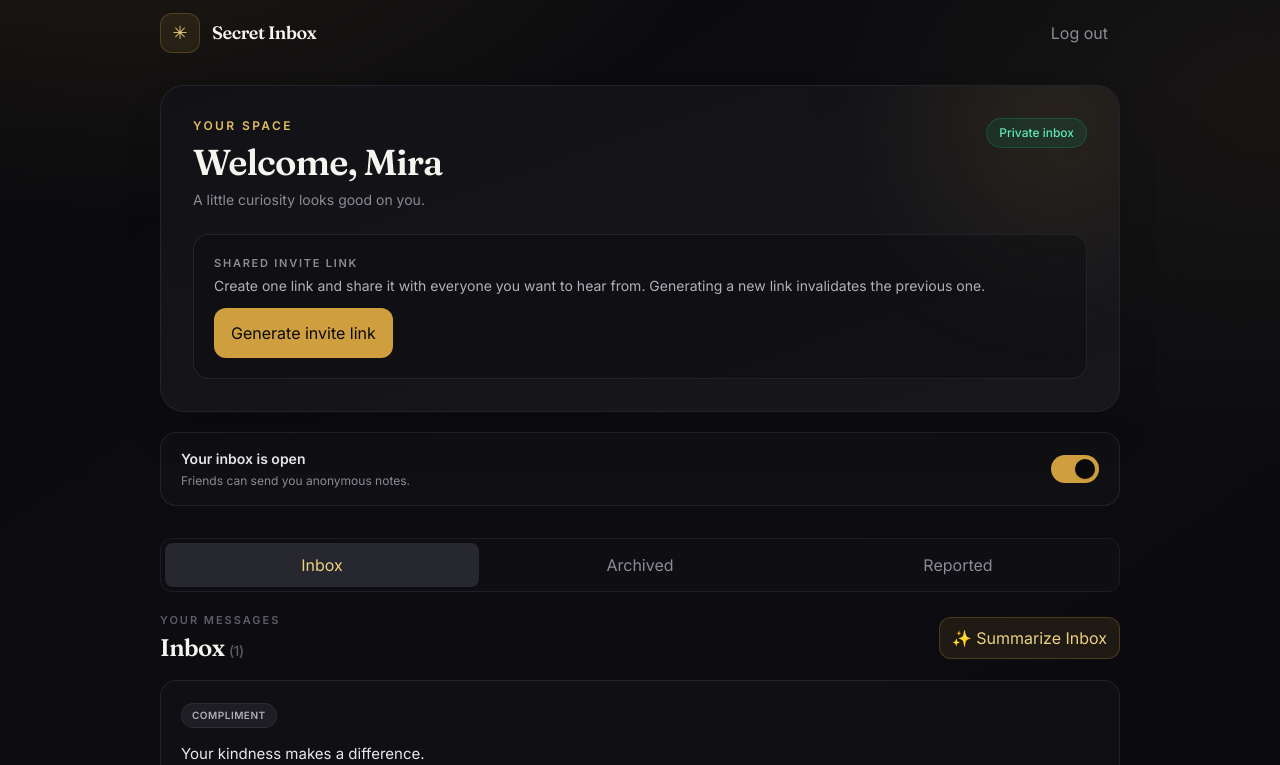
Test: inbox dashboard › restores an archived message
The image size is (1280, 765).
Expected: the text "Your kindness makes a difference." is shown, [181,744,425,763]
Click the button "Archived" at point(640, 564), box [483,542,797,586]
(page scrolled)
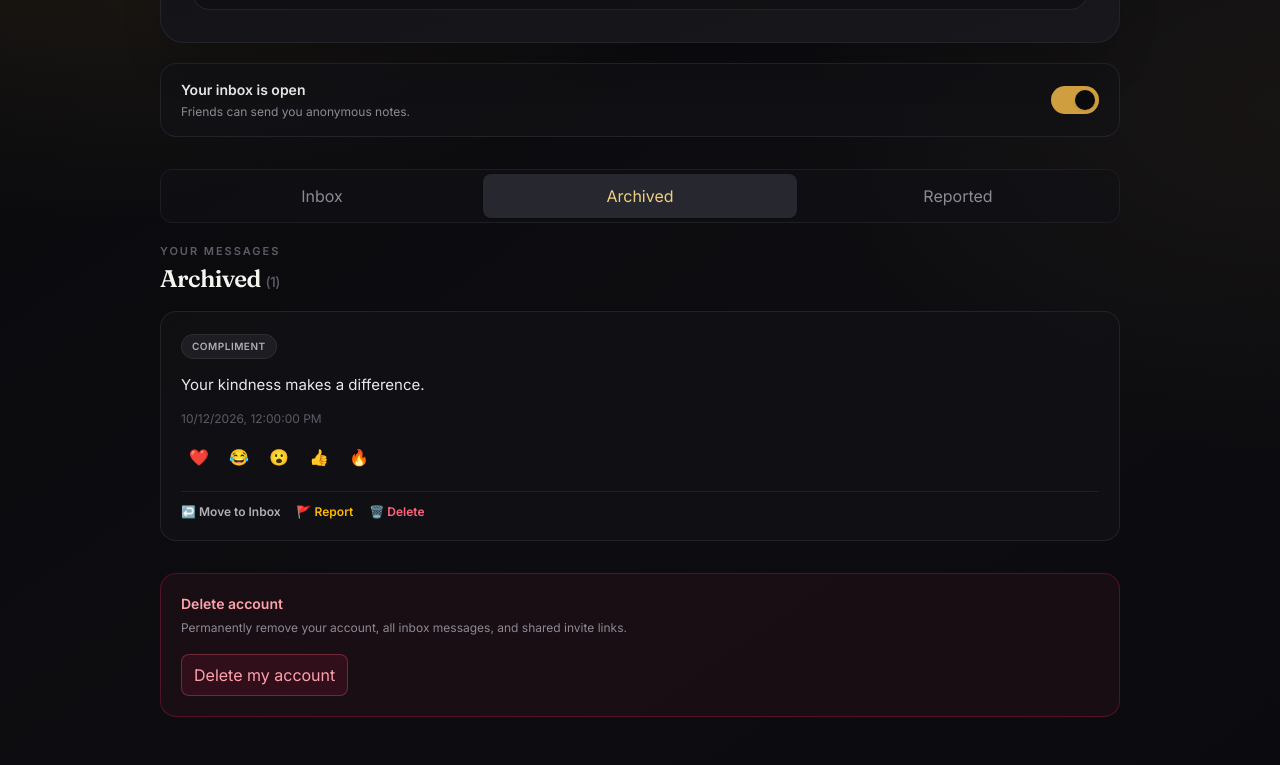
Now the button "↩️ Move to Inbox" is shown
Click the button "↩️ Move to Inbox" at point(231, 512), box [181,504,281,520]
(page scrolled)
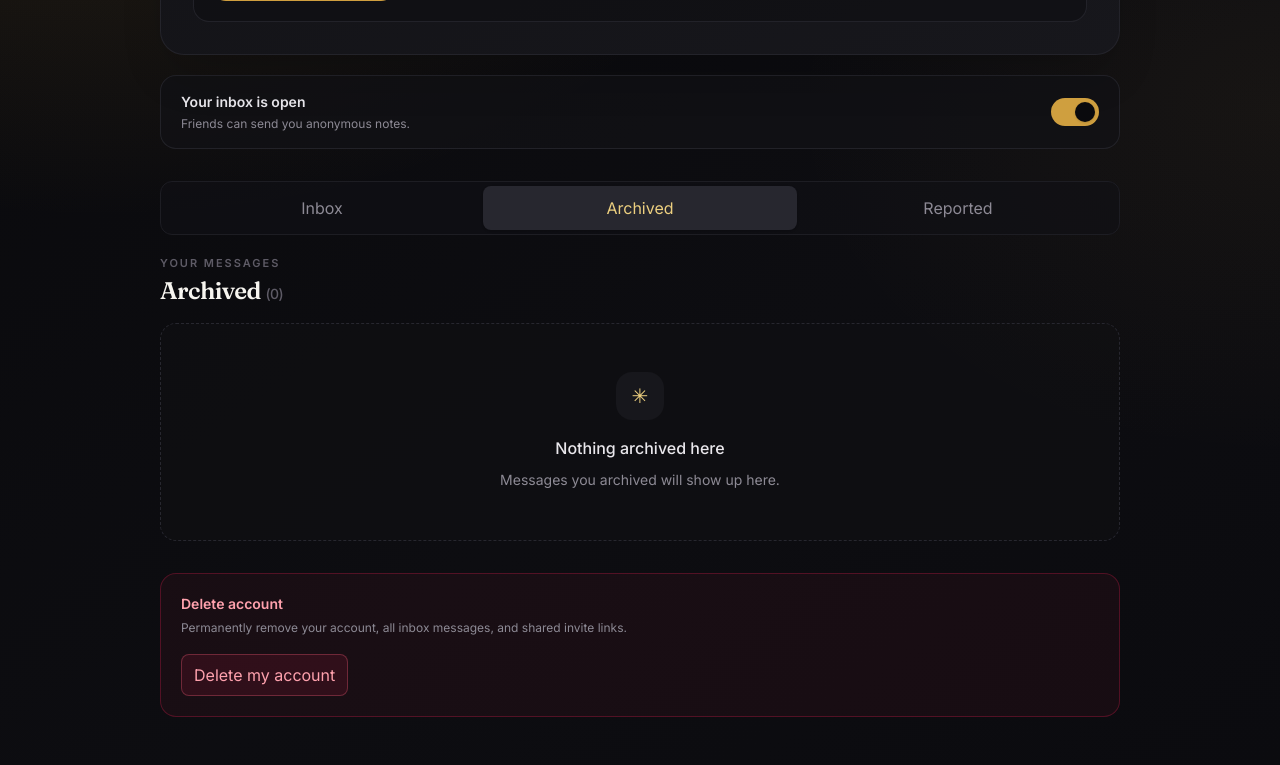
Now the text "Your kindness makes a difference." is gone
